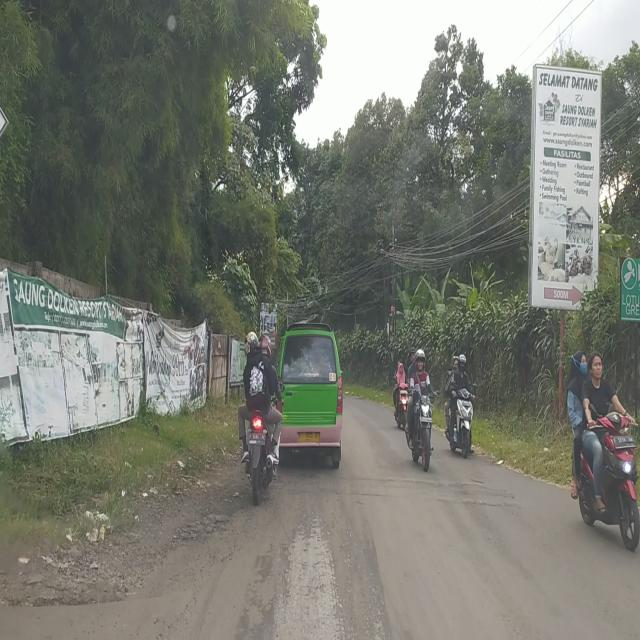Drain Hole: (168, 505, 233, 557)
